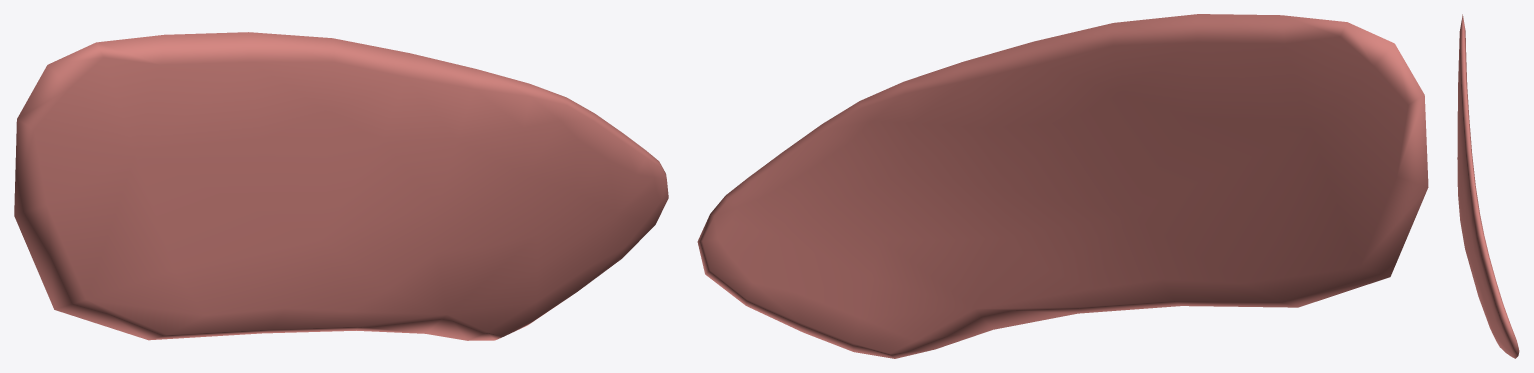
3 views of the same model, side by side, from view 1: azimuth 30°, elevation 25°; view 2: azimuth 150°, elevation 25°; view 3: azimuth 270°, elevation 25° (orthographic). The views are drawn at different scales.
Parts seen in each view (by area): view 1: ZA_5a78666542c67058; view 2: ZA_5a78666542c67058; view 3: ZA_5a78666542c67058.
Boxes of the visible parts, left/top/right/bottom form: ZA_5a78666542c67058: left=14, top=32, right=668, bottom=340; ZA_5a78666542c67058: left=697, top=14, right=1428, bottom=358; ZA_5a78666542c67058: left=1457, top=14, right=1519, bottom=358.
Bounding box in the file's own units: 0.0208 × 0.0121 × 0.00315.
